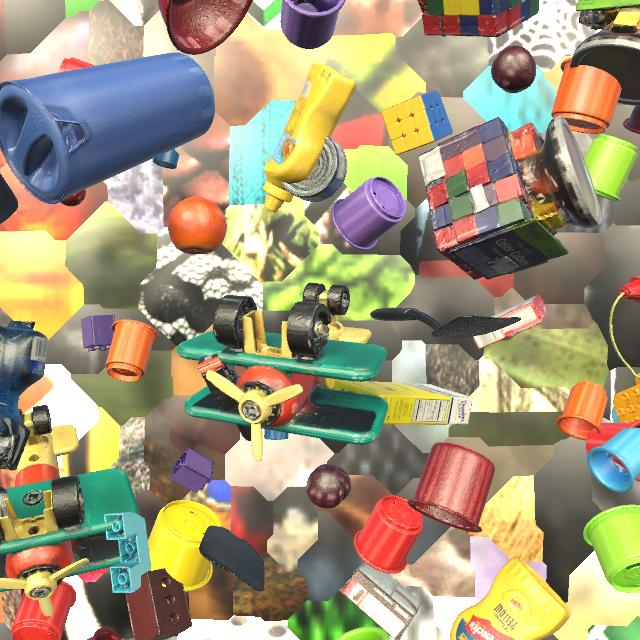ycb_004_sugar_box: (334, 380, 473, 425)
ycb_006_mustard_bottle: (263, 62, 357, 212), (450, 558, 571, 640)
ycb_007_tuna_fish_can: (281, 136, 348, 202)
ycb_008_pudding_box: (339, 562, 422, 640)
ycb_009_gelatin_box: (472, 294, 548, 349)
ycb_017_orange: (168, 196, 227, 255)
ycb_018_plum: (491, 45, 536, 93), (306, 464, 351, 509)
